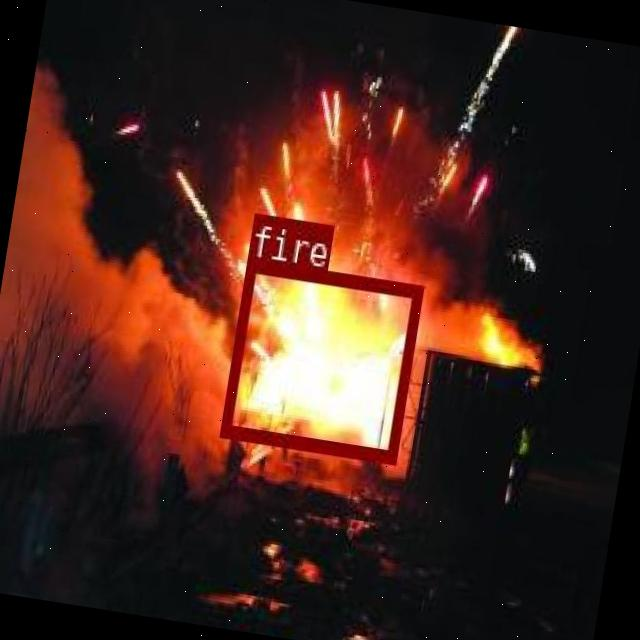fire: (220, 256, 421, 460)
